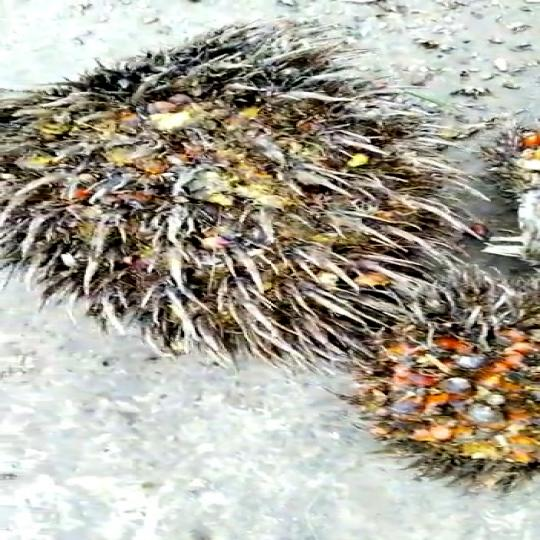terlalu masak: (0, 35, 455, 349), (343, 267, 540, 472)
